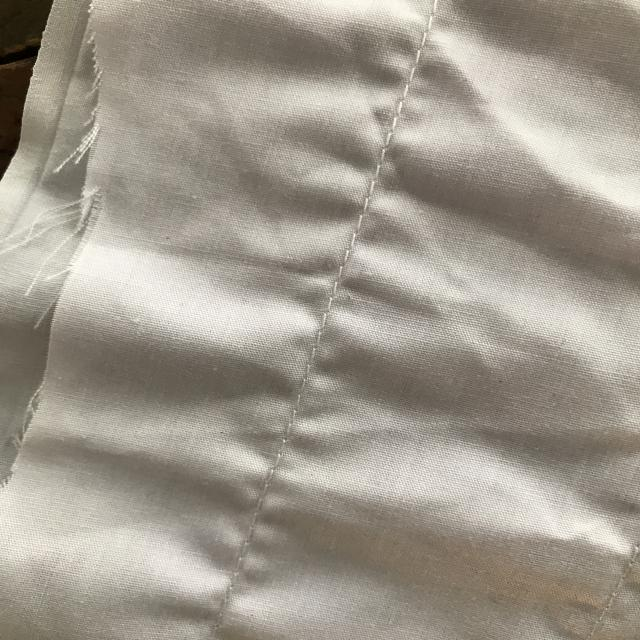good: (338, 149, 402, 227), (285, 314, 323, 426), (394, 40, 436, 126)
